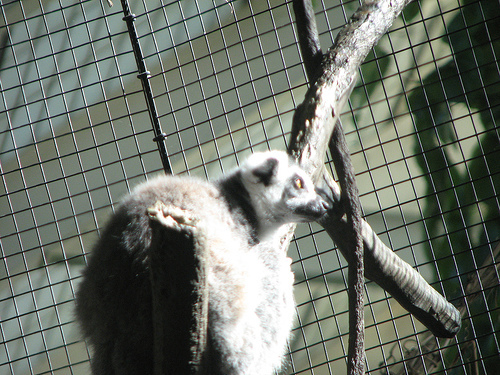cat: (65, 147, 332, 370)
